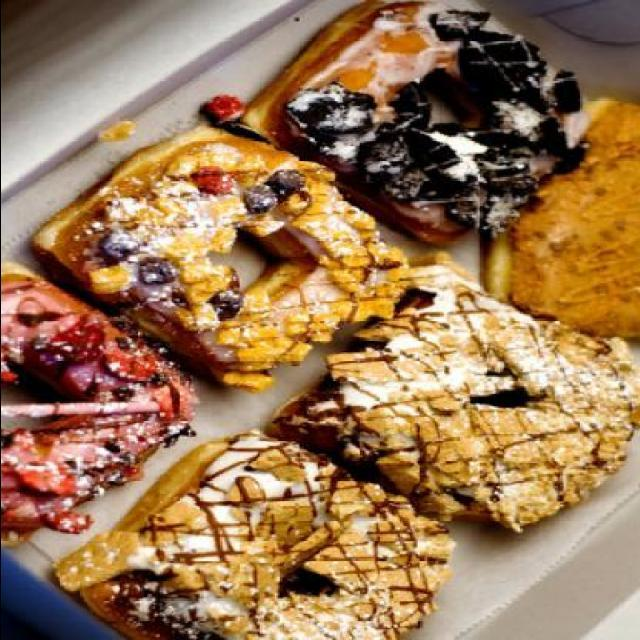Donuts: (2, 6, 634, 638)
